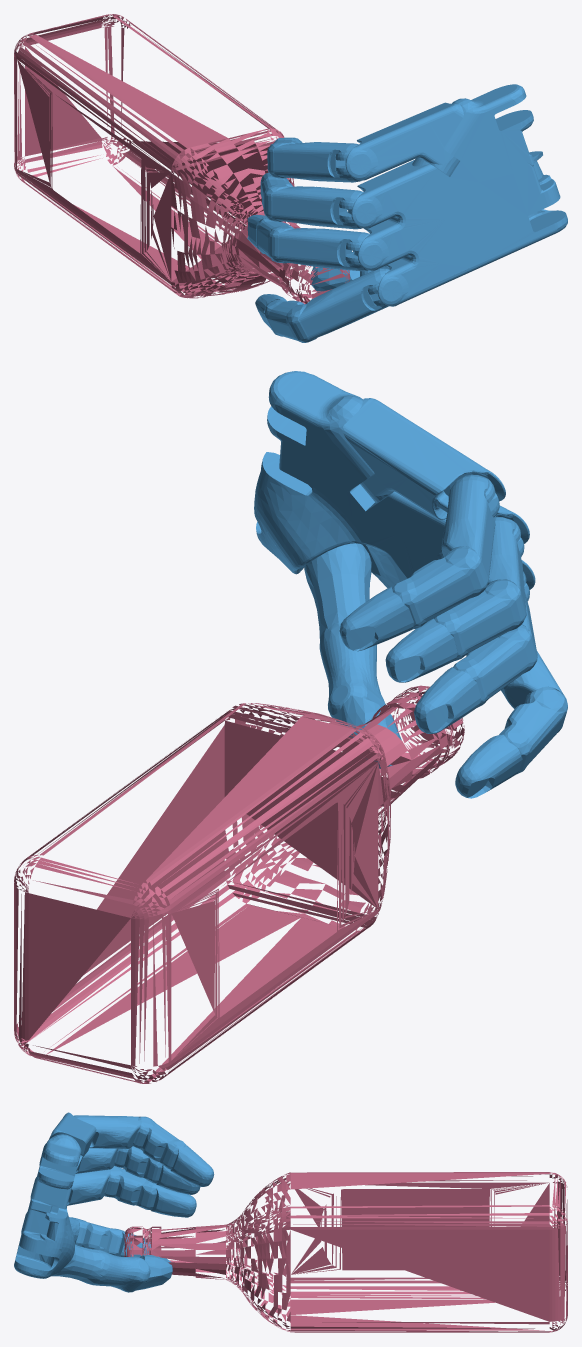
3 renders of one model, top to bottom at view 1: azimuth 30°, elevation 25°; view 2: azimuth 150°, elevation 25°; view 3: azimuth 270°, elevation 25°, orthographic. The views are drawn at different scales.
Parts seen in each view (by area): view 1: shadow2; view 2: shadow2; view 3: shadow2.
Boxes of the visible parts, box(x1,y1,x2,y2) form: shadow2: box(14, 14, 567, 342); shadow2: box(14, 371, 567, 1083); shadow2: box(14, 1112, 567, 1332).
Size of the model in its own units: 0.1487 by 0.1508 by 0.3381.
